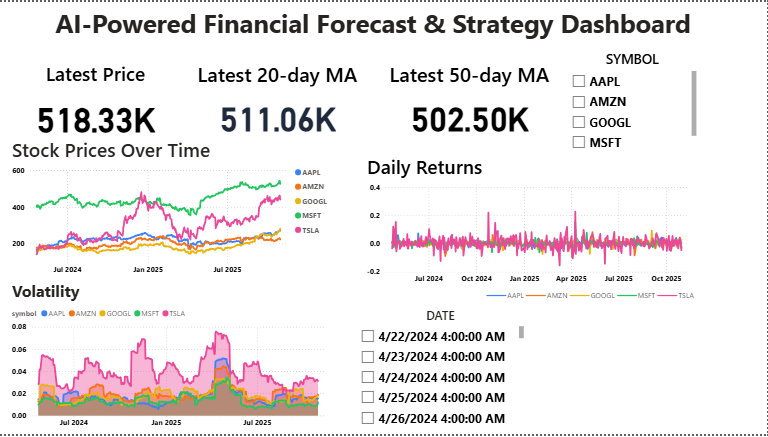

What the dashboard file says about the page in this screenshot:
{"tool":"powerbi","page":{"name":"Market Overview Page","canvas":[1280,720],"ordinal":0},"visuals":[{"type":"cardVisual","title":"Latest Price","fields":{"Data":["Sum(financial_ai_ready.close)"]},"box":[16,96,288,128],"z":0},{"type":"textbox","box":[64,0,1120,96],"z":1000},{"type":"cardVisual","title":"Latest 20-day MA","fields":{"Data":["Sum(financial_ai_ready.ma_20)"]},"box":[320,96,288,128],"z":2000},{"type":"cardVisual","title":"Latest 50-day MA","fields":{"Data":["Sum(financial_ai_ready.ma_50)"]},"box":[640,96,288,128],"z":3000},{"type":"lineChart","title":"Stock Prices Over Time","fields":{"Y":["Sum(financial_ai_ready.close)"],"Category":["financial_ai_ready.date.Variation.Date Hierarchy.Year","financial_ai_ready.date.Variation.Date Hierarchy.Quarter","financial_ai_ready.date.Variation.Date Hierarchy.Month","financial_ai_ready.date.Variation.Date Hierarchy.Day"],"Series":["financial_ai_ready.symbol"]},"box":[16,224,544,240],"z":4000},{"type":"lineChart","title":"Daily Returns","fields":{"Y":["Sum(financial_ai_ready.daily_return)"],"Category":["financial_ai_ready.date.Variation.Date Hierarchy.Year","financial_ai_ready.date.Variation.Date Hierarchy.Quarter","financial_ai_ready.date.Variation.Date Hierarchy.Month","financial_ai_ready.date.Variation.Date Hierarchy.Day"],"Series":["financial_ai_ready.symbol"]},"box":[608,252,560,256],"z":5000},{"type":"areaChart","title":"Volatility","fields":{"Y":["Sum(financial_ai_ready.volatility_20)"],"Category":["financial_ai_ready.date.Variation.Date Hierarchy.Year","financial_ai_ready.date.Variation.Date Hierarchy.Quarter","financial_ai_ready.date.Variation.Date Hierarchy.Month","financial_ai_ready.date.Variation.Date Hierarchy.Day"],"Series":["financial_ai_ready.symbol"]},"box":[16,464,544,256],"z":6000},{"type":"slicer","title":"SYMBOL","fields":{"Values":["financial_ai_ready.symbol"]},"box":[944,80,224,176],"z":7000},{"type":"slicer","title":"DATE","fields":{"Values":["financial_ai_ready.date"]},"box":[592,508,288,208],"z":8000}]}

Visuals, with their boxes in screenshot pixels (x1, y1, x2, y2), scaled from the page's 1280x720 canvas onto the 768x437 screenshot:
"Latest Price" cardVisual: [10,58,182,136]
textbox: [38,0,710,58]
"Latest 20-day MA" cardVisual: [192,58,365,136]
"Latest 50-day MA" cardVisual: [384,58,557,136]
"Stock Prices Over Time" lineChart: [10,136,336,282]
"Daily Returns" lineChart: [365,153,701,308]
"Volatility" areaChart: [10,282,336,436]
"SYMBOL" slicer: [566,49,701,155]
"DATE" slicer: [355,308,528,435]
